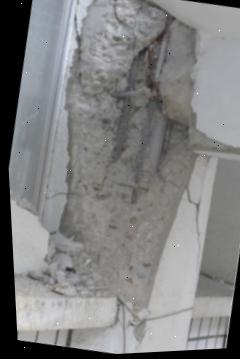exposed_rebar: (133, 16, 170, 203), (113, 53, 139, 160), (155, 114, 167, 167)
spalling: (57, 0, 232, 308)
